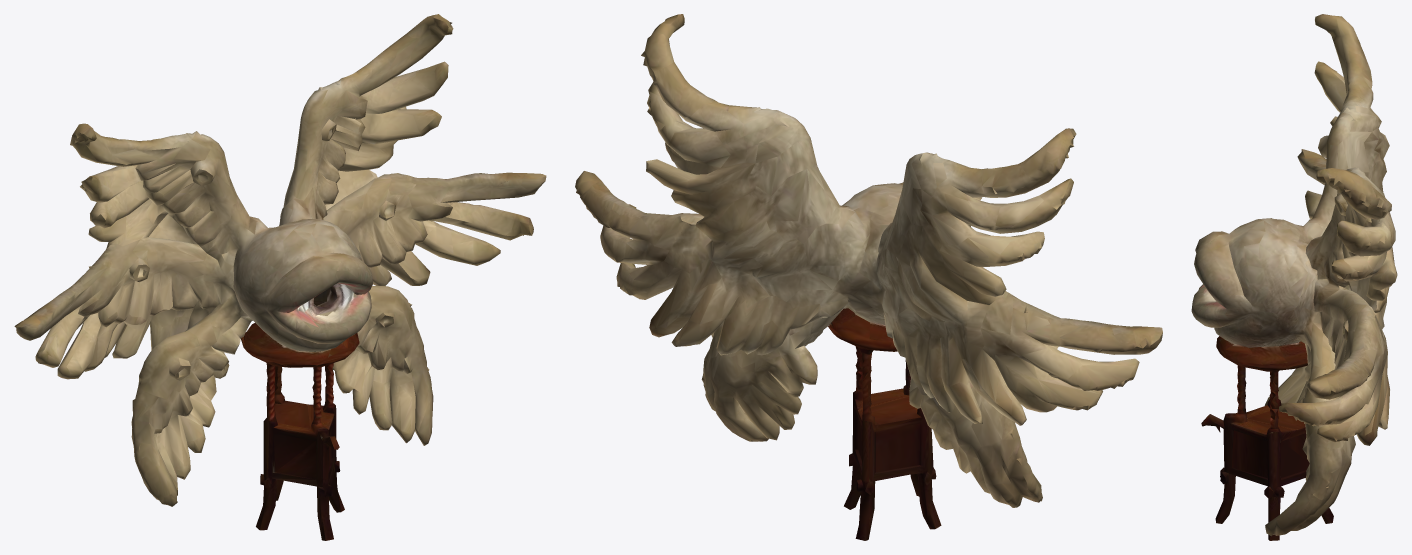
Rendered from BeNotAfraid_Artwork3D.glb.
3 views of the same model, side by side, from view 1: azimuth 30°, elevation 25°; view 2: azimuth 150°, elevation 25°; view 3: azimuth 270°, elevation 25° (orthographic). The views are drawn at different scales.
Parts seen in each view (by area): view 1: Meshy_AI_Winged_Eye_0329093003_texture; view 2: Meshy_AI_Winged_Eye_0329093003_texture; view 3: Meshy_AI_Winged_Eye_0329093003_texture.
Boxes of the visible parts, x1=… form: Meshy_AI_Winged_Eye_0329093003_texture: x1=14, y1=14, x2=546, y2=540; Meshy_AI_Winged_Eye_0329093003_texture: x1=575, y1=14, x2=1162, y2=540; Meshy_AI_Winged_Eye_0329093003_texture: x1=1191, y1=14, x2=1397, y2=540.
Size of the model in its own units: 1.89 by 1.5 by 0.6409.
Materials: 1 (1 with a texture image).
